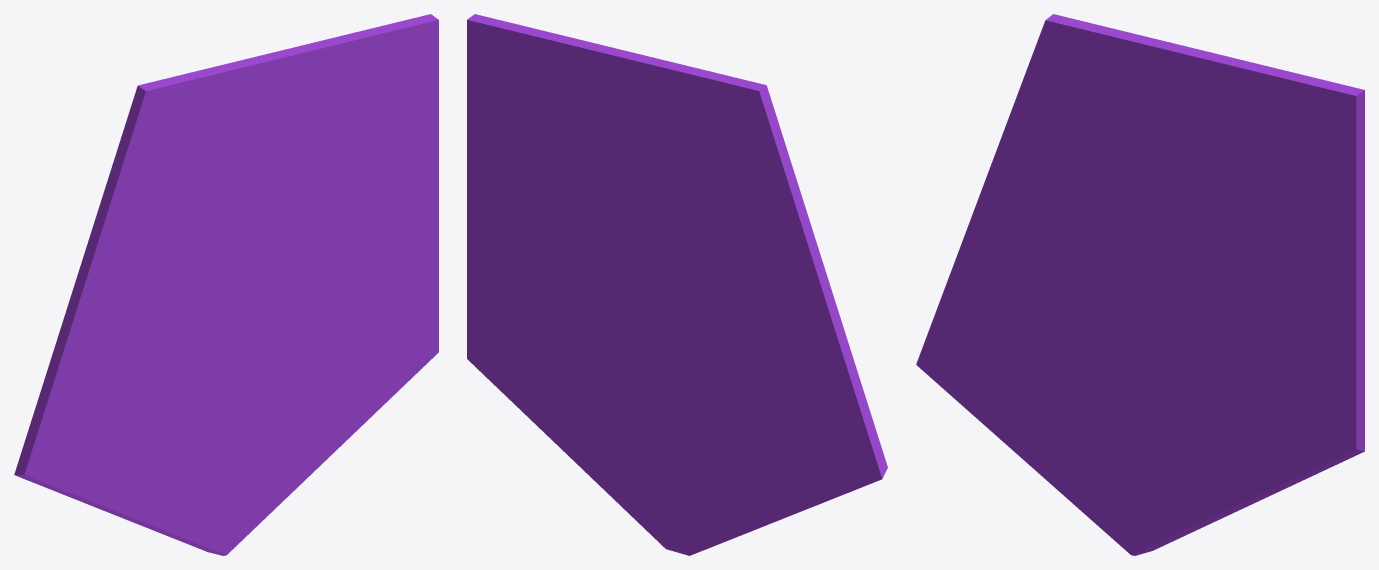
Rendered from Window_41_9_chunks.fbx.
The picture shows the model from 3 angles, left to right: view 1: azimuth 30°, elevation 25°; view 2: azimuth 150°, elevation 25°; view 3: azimuth 330°, elevation 25°; orthographic projection. The views are drawn at different scales.
Visible parts, largest first — view 1: Window_41_9_11, Window_41_9_12, Window_41_9_10, Window_41_9_4, Window_41_9_3, Window_41_9_8, Window_41_9_6, Window_41_9_5, Window_41_9_1, Window_41_9_7; view 2: Window_41_9_12, Window_41_9_11, Window_41_9_4, Window_41_9_10, Window_41_9_6, Window_41_9_5, Window_41_9_3, Window_41_9_8, Window_41_9_0, Window_41_9_1, Window_41_9_2; view 3: Window_41_9_11, Window_41_9_12, Window_41_9_4, Window_41_9_10, Window_41_9_3, Window_41_9_8, Window_41_9_6, Window_41_9_5, Window_41_9_1, Window_41_9_7, Window_41_9_9.
Part boxes in pixels (x1,y1,x2,y2): Window_41_9_11: (242, 14, 438, 303); Window_41_9_12: (96, 37, 343, 223); Window_41_9_10: (65, 214, 272, 354); Window_41_9_4: (285, 84, 438, 344); Window_41_9_3: (267, 318, 438, 497); Window_41_9_8: (47, 349, 250, 445); Window_41_9_6: (145, 396, 286, 555); Window_41_9_5: (14, 371, 153, 526); Window_41_9_1: (235, 289, 320, 440); Window_41_9_7: (148, 444, 177, 527); Window_41_9_12: (561, 37, 808, 221); Window_41_9_11: (467, 14, 668, 295); Window_41_9_4: (467, 74, 619, 331); Window_41_9_10: (633, 210, 846, 336); Window_41_9_6: (619, 394, 751, 555); Window_41_9_5: (739, 374, 887, 530); Window_41_9_3: (467, 335, 638, 503); Window_41_9_8: (659, 344, 858, 446); Window_41_9_0: (662, 306, 848, 367); Window_41_9_1: (585, 278, 670, 448); Window_41_9_2: (467, 294, 585, 352); Window_41_9_11: (1148, 65, 1364, 311); Window_41_9_12: (1001, 14, 1264, 185); Window_41_9_4: (1193, 148, 1364, 413); Window_41_9_10: (960, 139, 1179, 345); Window_41_9_3: (1174, 380, 1364, 527); Window_41_9_8: (947, 253, 1155, 411); Window_41_9_6: (1058, 398, 1202, 555); Window_41_9_5: (916, 281, 1053, 481); Window_41_9_1: (1140, 302, 1230, 454); Window_41_9_7: (1048, 401, 1078, 490); Window_41_9_9: (1116, 185, 1149, 217).
Bounding box in the file's own units: 825 × 921 × 27.2.
